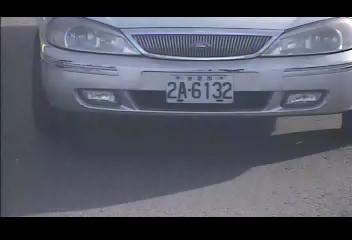plate: (164, 71, 235, 105)
